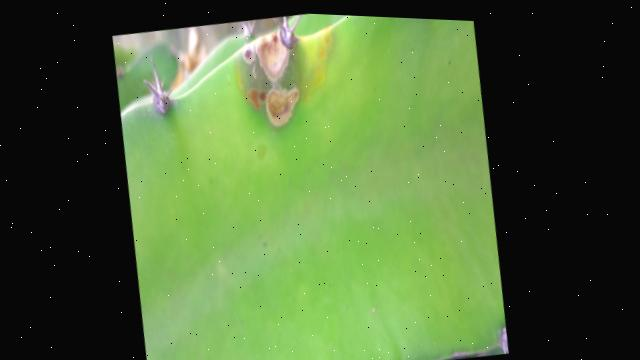stemcanker: (251, 30, 291, 79), (264, 86, 299, 126)
